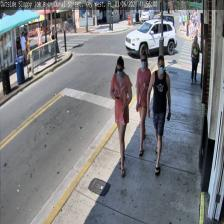person: (146, 54, 170, 174), (110, 56, 132, 174), (135, 50, 151, 156)
